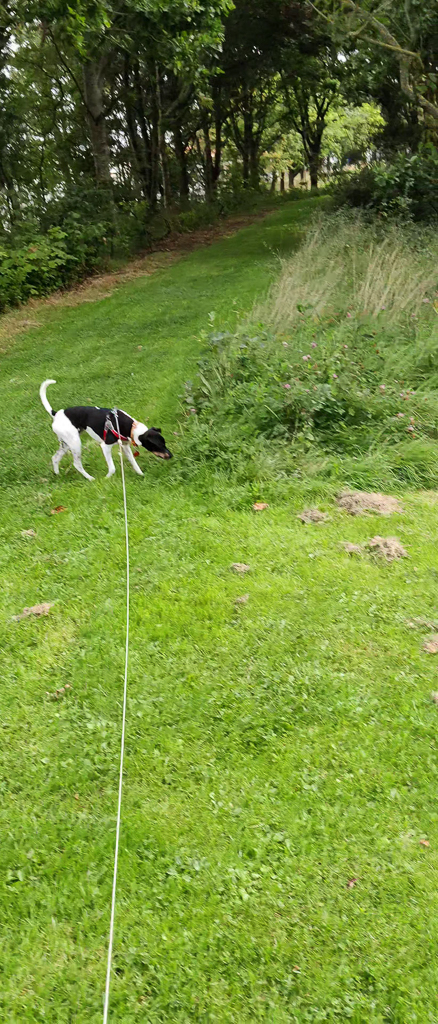Dog: (35, 374, 180, 485)
